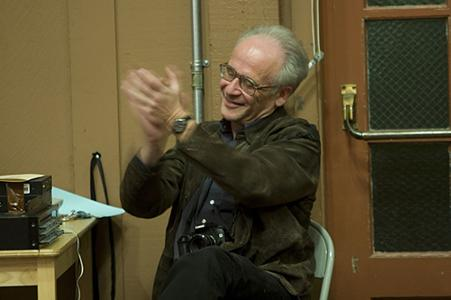person: (118, 25, 323, 300)
